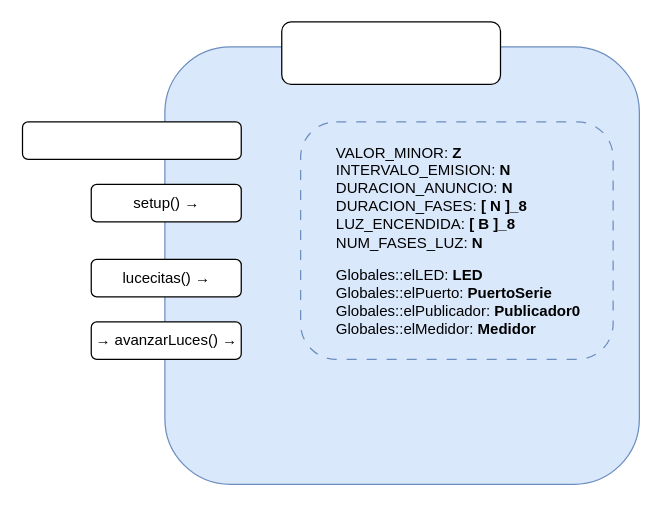
Some shapes in this 661 by 506 pixel diagram are drawn without their labels. The box of each missing label's shape, as (x1, y1, x2, y2) in pixels:
HolaMundoIBeacon: (280, 21, 500, 84)
inicializarPlaquita() --x: (21, 121, 241, 159)
